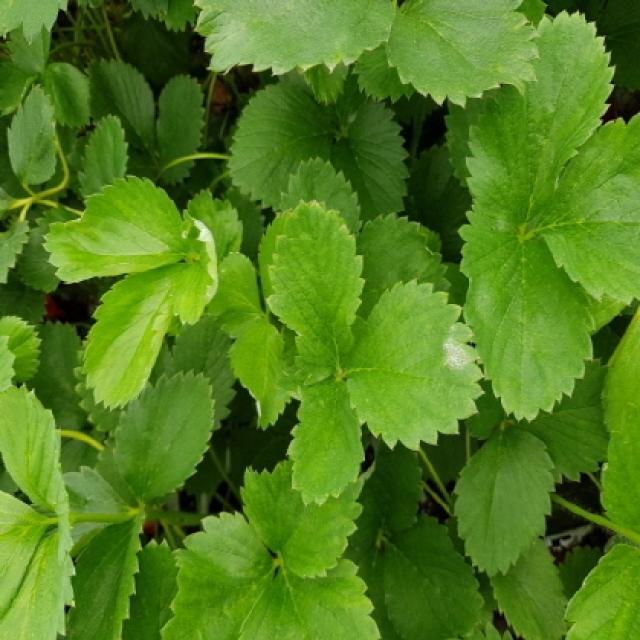powdery_mildew_leaf: (345, 276, 488, 450), (168, 217, 219, 326)
